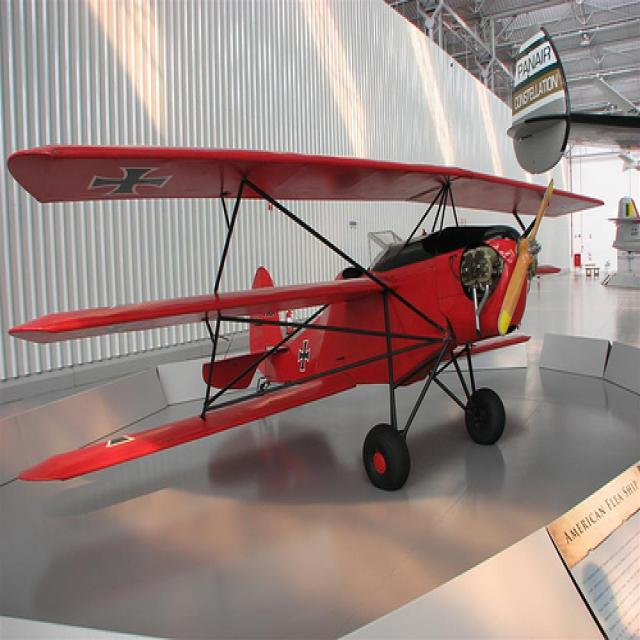aeroplane: (4, 144, 607, 496), (608, 197, 640, 254)
